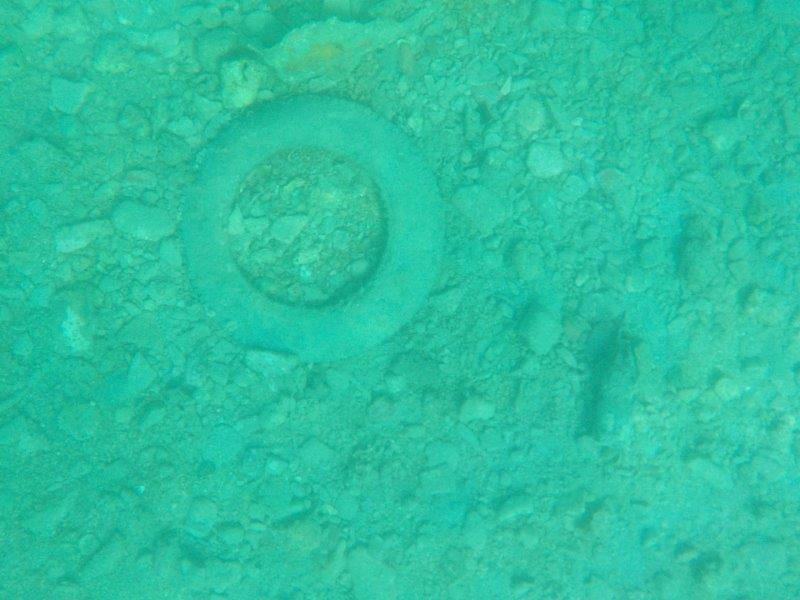bottle: (586, 331, 650, 451)
tire: (172, 83, 455, 370)
